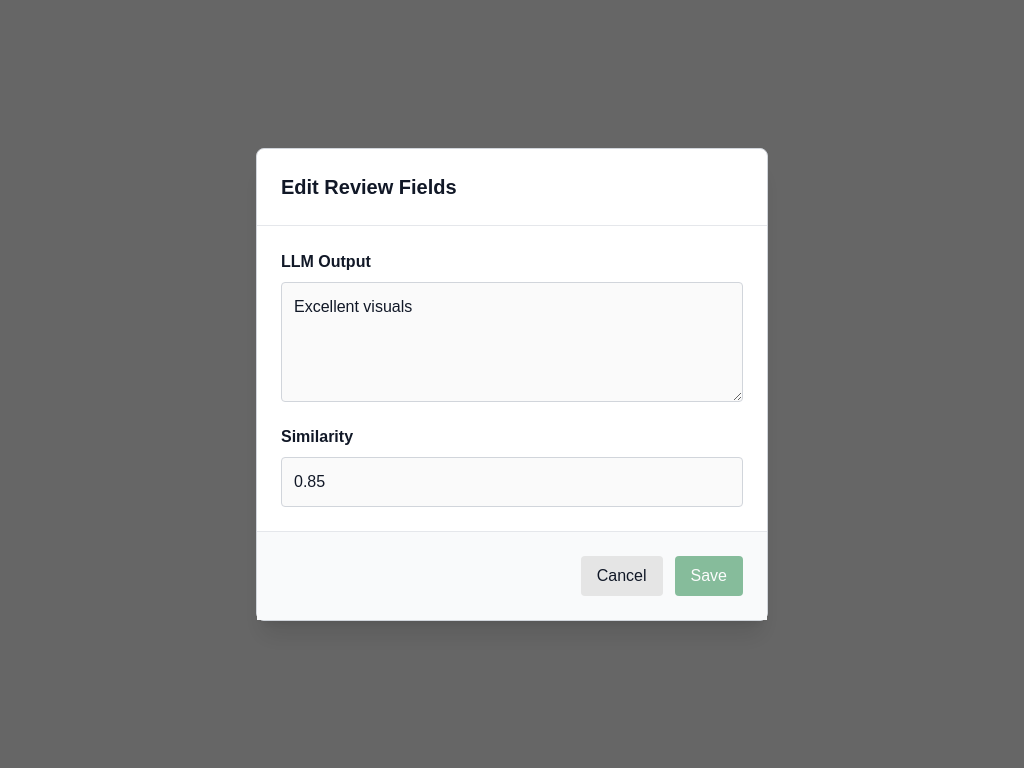
Test: EditResultModal › displays error message on save failure
This screenshot has width=1024, height=768.
Replace the text in the text box showing "Excellent visuals" with "Amazing graphics": (512, 342) [281,282,743,402]
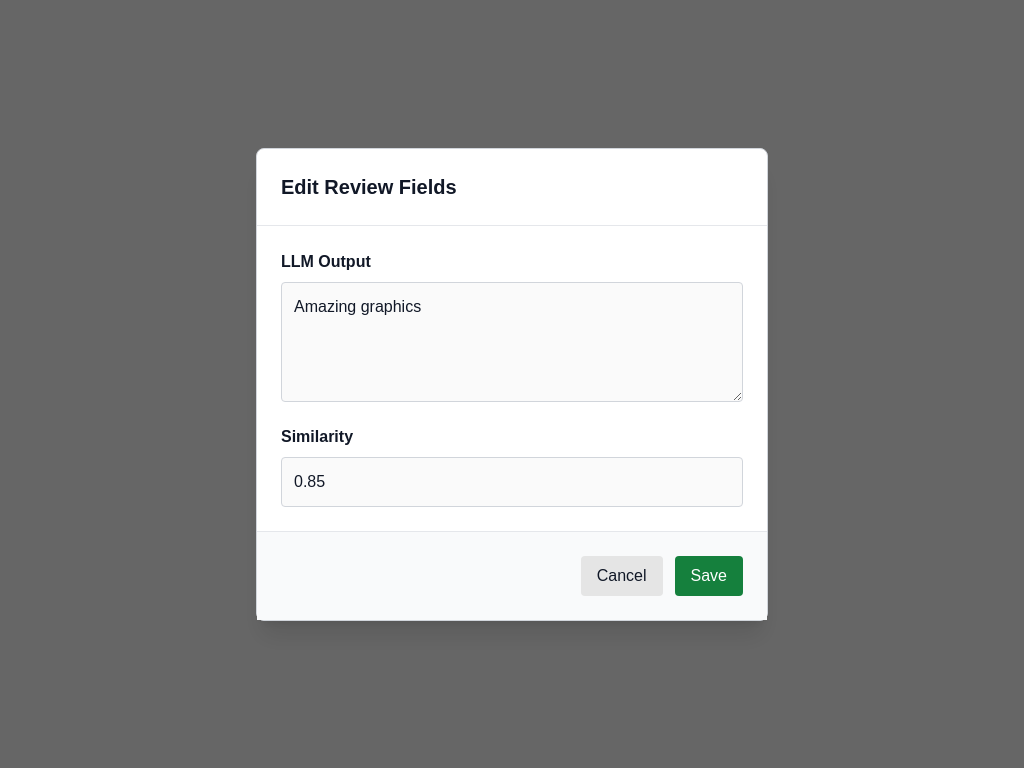
Click the button "Save": click(709, 576) [674,556,743,596]
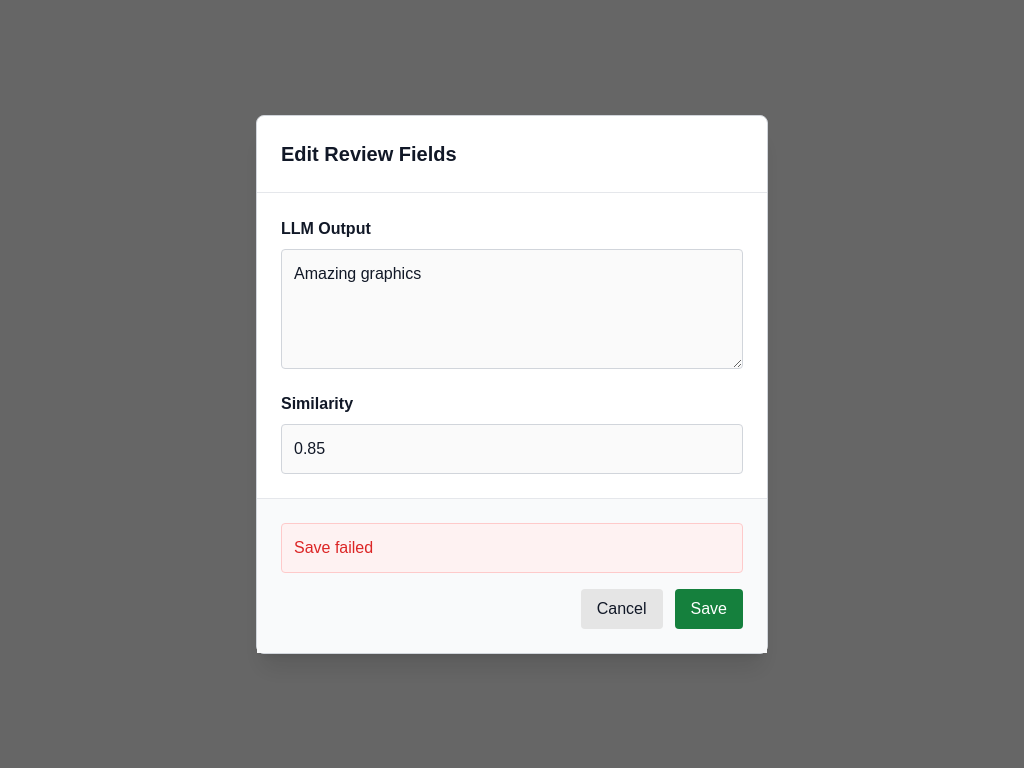
Result: the text "Save failed" is shown at [281,522,743,572]
